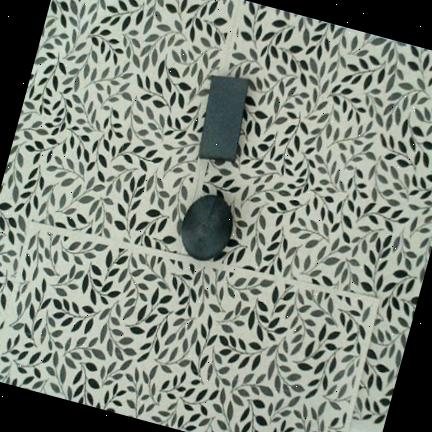Esfera: (181, 195, 233, 260)
Paralelepipedo: (199, 77, 248, 161)
